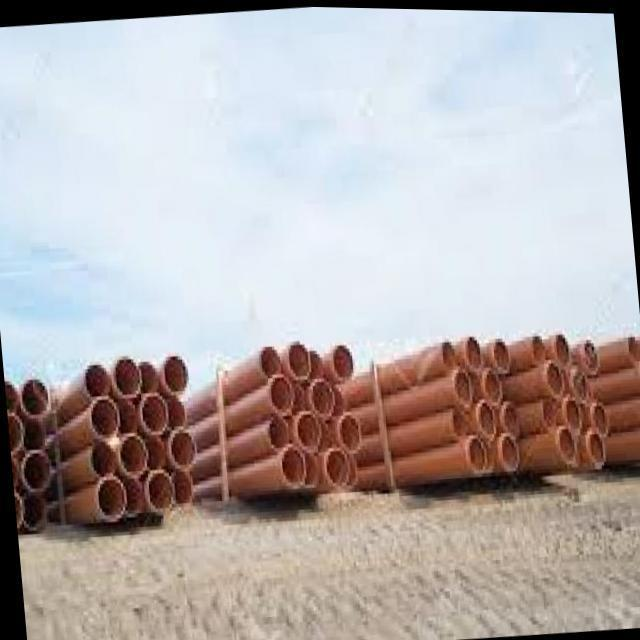pipe: (97, 476, 125, 522), (112, 355, 140, 398), (119, 433, 147, 476), (21, 446, 48, 489), (90, 397, 117, 439), (169, 427, 197, 466), (148, 467, 173, 510), (280, 444, 304, 488), (20, 377, 52, 410), (141, 392, 167, 432), (325, 446, 350, 485), (270, 373, 293, 414), (340, 411, 363, 452), (332, 341, 356, 380), (296, 409, 319, 449), (142, 433, 166, 471), (84, 363, 110, 398), (89, 442, 116, 475), (163, 355, 186, 391), (22, 490, 45, 526), (288, 342, 309, 380), (312, 377, 334, 413), (468, 429, 487, 470), (260, 345, 282, 378), (478, 397, 496, 437), (571, 363, 592, 396), (454, 364, 472, 402), (483, 363, 500, 403), (499, 432, 519, 466), (139, 361, 159, 393), (545, 359, 563, 394), (502, 394, 519, 431), (563, 393, 580, 430), (173, 469, 192, 502), (591, 398, 609, 432), (582, 336, 599, 371), (466, 333, 483, 367), (269, 415, 288, 445), (118, 400, 136, 431), (560, 425, 575, 462), (589, 428, 604, 465), (168, 394, 185, 425), (556, 330, 571, 365), (128, 479, 143, 513), (494, 336, 509, 367), (532, 330, 548, 359), (452, 408, 469, 435), (544, 393, 557, 425), (310, 350, 324, 378), (442, 342, 458, 366), (306, 452, 317, 485)
